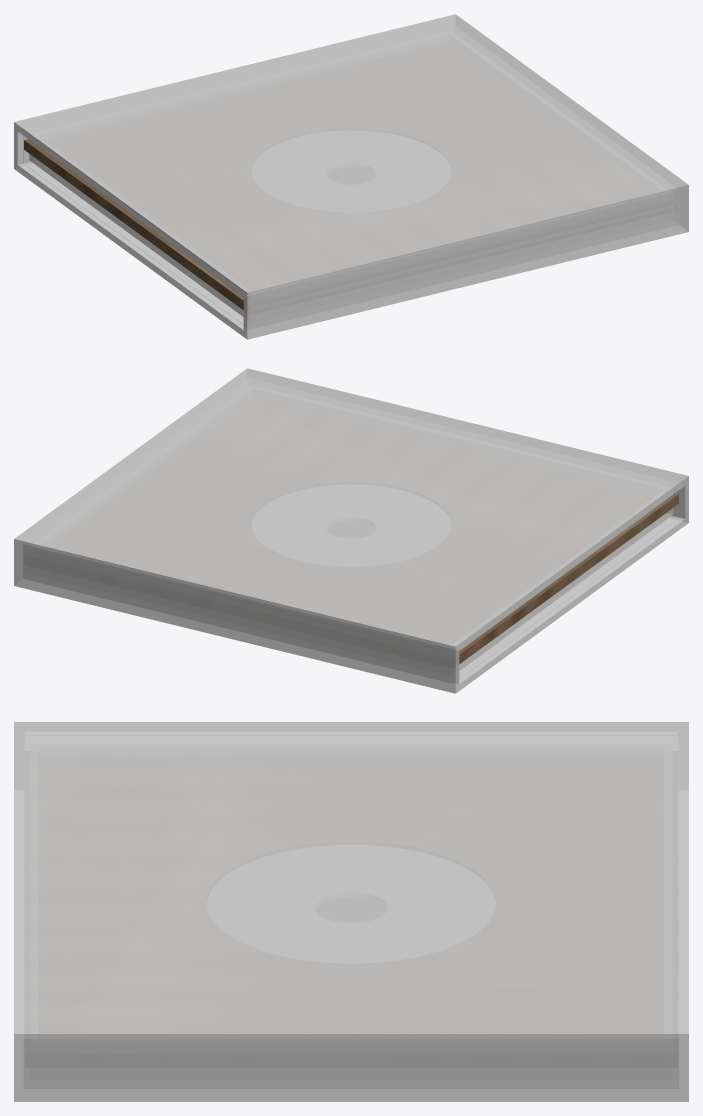
The model's file is Music_CD_case__0016.glb.
3 renders of one model, top to bottom at view 1: azimuth 30°, elevation 25°; view 2: azimuth 150°, elevation 25°; view 3: azimuth 270°, elevation 25°, orthographic. The views are drawn at different scales.
Visible parts, largest first — view 1: sleeve::sleeve_shell, base::sleeve_pocket, base::base_frame; view 2: sleeve::sleeve_shell, base::sleeve_pocket, base::base_frame; view 3: sleeve::sleeve_shell.
Boxes of the visible parts, x1,y1,x2,y2 form: sleeve::sleeve_shell: [14, 14, 688, 339]; base::sleeve_pocket: [24, 139, 243, 309]; base::base_frame: [29, 140, 243, 316]; sleeve::sleeve_shell: [14, 368, 688, 693]; base::sleeve_pocket: [459, 493, 678, 663]; base::base_frame: [459, 494, 673, 670]; sleeve::sleeve_shell: [14, 722, 688, 1101].
Size of the model in its own units: 0.1529 by 0.0155 by 0.1399.
3 materials, 1 textured.
